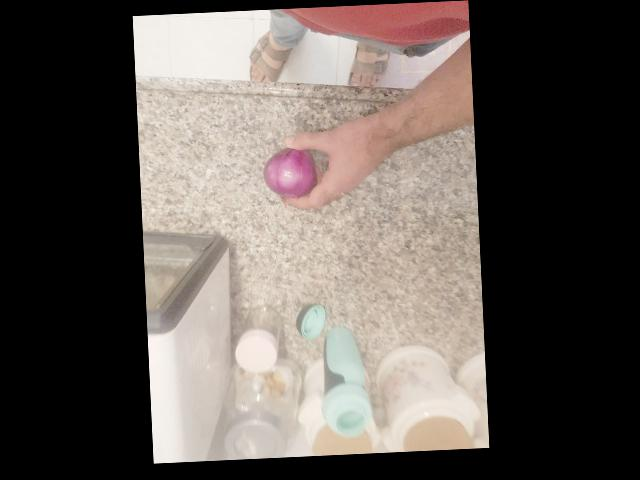onion: (168, 277, 224, 336)
